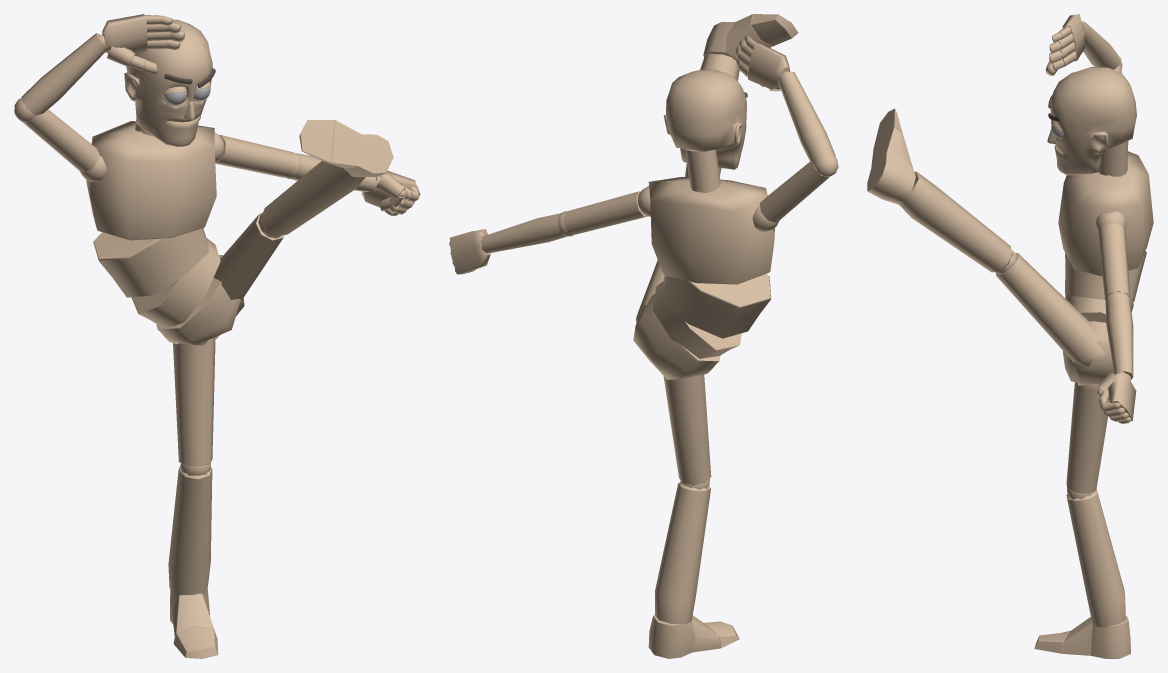
File: posed_rig.fbx
3 renders of one model, left to right at view 1: azimuth 30°, elevation 25°; view 2: azimuth 150°, elevation 25°; view 3: azimuth 270°, elevation 25°, orthographic. The views are drawn at different scales.
Visible parts, largest first — view 1: chest, head, middle_torso, right_lower_leg, right_upper_leg, left_lower_leg, lower_torso, left_upper_leg, pelvis, right_lower_arm, left_foot, left_upper_arm (+6 smaller); view 2: chest, head, right_lower_leg, middle_torso, right_upper_leg, pelvis, right_lower_arm, right_foot, lower_torso, left_upper_arm, left_lower_arm, right_upper_arm (+6 smaller); view 3: chest, head, right_lower_leg, left_upper_leg, left_lower_leg, right_upper_leg, left_foot, right_foot, left_upper_arm, left_lower_arm, middle_torso, pelvis (+7 smaller).
Boxes of the visible parts, box(x1,y1,x2,y2) form: chest: box(86, 121, 216, 240); head: box(124, 19, 212, 146); middle_torso: box(93, 228, 209, 297); right_lower_leg: box(168, 465, 212, 596); right_upper_leg: box(173, 338, 215, 466); left_lower_leg: box(261, 161, 365, 236); lower_torso: box(131, 238, 220, 328); left_upper_leg: box(213, 212, 284, 301); pelvis: box(156, 255, 244, 345); right_lower_arm: box(21, 33, 108, 115); left_foot: box(327, 120, 393, 177); left_upper_arm: box(215, 135, 296, 177); chest: box(648, 177, 774, 284); head: box(663, 69, 746, 169); right_lower_leg: box(655, 482, 710, 624); middle_torso: box(662, 273, 770, 338); right_upper_leg: box(663, 375, 711, 485); pelvis: box(633, 294, 720, 379); right_lower_arm: box(777, 71, 835, 163); right_foot: box(648, 615, 720, 658); lower_torso: box(652, 281, 741, 358); left_upper_arm: box(563, 191, 647, 234); left_lower_arm: box(480, 213, 567, 253); right_upper_arm: box(759, 162, 830, 222); chest: box(1058, 151, 1153, 276); head: box(1050, 67, 1136, 175); right_lower_leg: box(1066, 489, 1125, 627); left_upper_leg: box(996, 253, 1105, 366); left_lower_leg: box(899, 171, 1012, 272); right_upper_leg: box(1066, 382, 1107, 493); left_foot: box(867, 127, 915, 204); right_foot: box(1062, 615, 1130, 658); left_upper_arm: box(1098, 223, 1130, 300); left_lower_arm: box(1105, 296, 1133, 379); middle_torso: box(1065, 251, 1146, 302); pelvis: box(1062, 321, 1114, 385).
Bounding box in the file's own units: 132 × 201 × 86.95.
